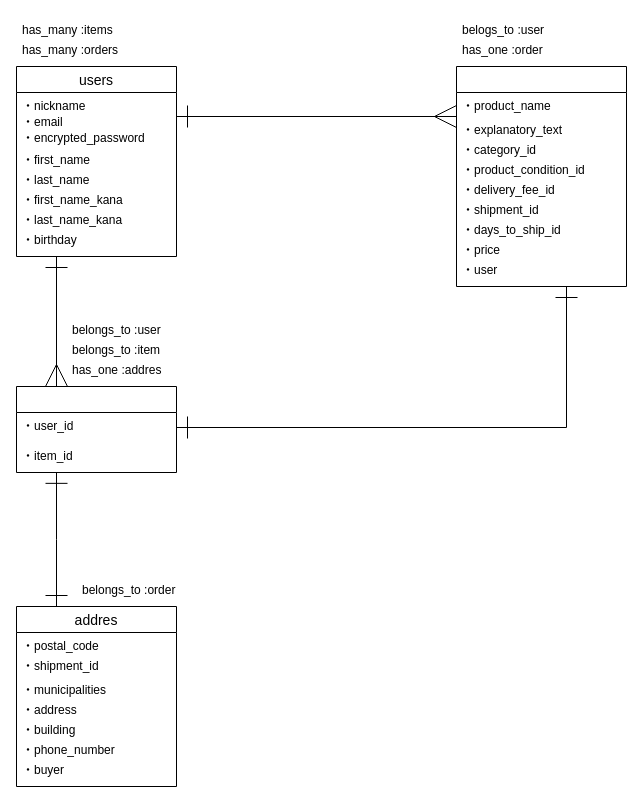
The diagram is 643 pixels wide and 803 high, and some of its shapes have lost their labels. The box of each missing label's shape, as (x1, y1, x2, y2) in pixels:
items: (456, 66, 626, 286)
orders: (16, 386, 176, 472)
